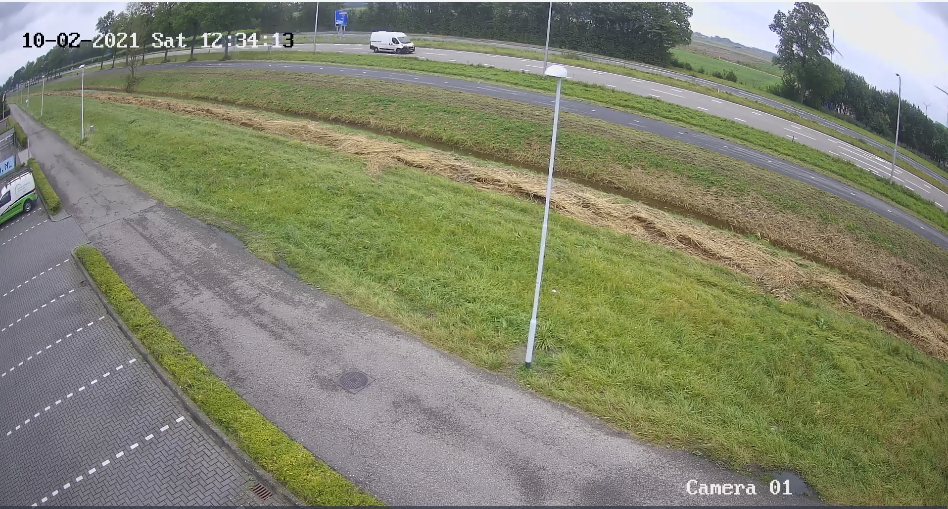werkbus: (363, 21, 418, 65)
